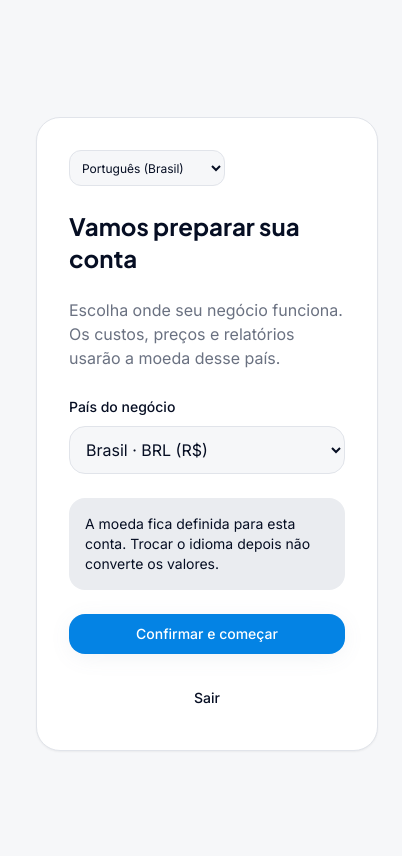
Test: requires a new Google account to confirm its business country before opening the application
Expected: the heading "Vamos preparar sua conta" is shown, x1=69 y1=211 x2=300 y2=273
Select "Portugal · EUR (€)" in the dropdown labelled "País do negócio": (207, 450) x1=69 y1=426 x2=345 y2=474
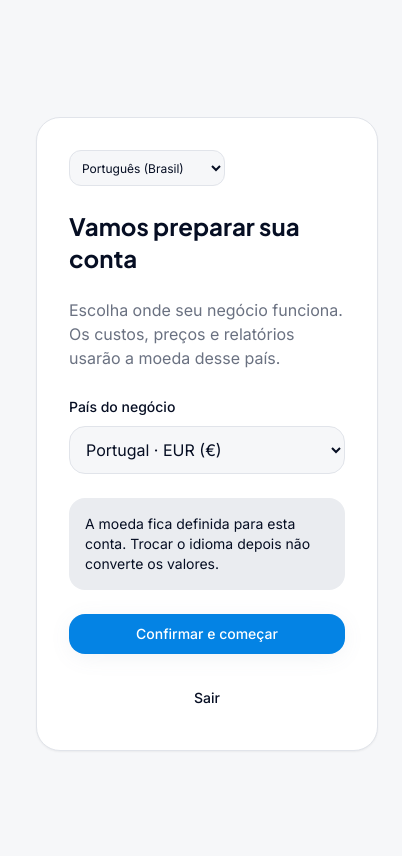
Click the button "Confirmar e começar": (207, 634) x1=69 y1=614 x2=345 y2=654
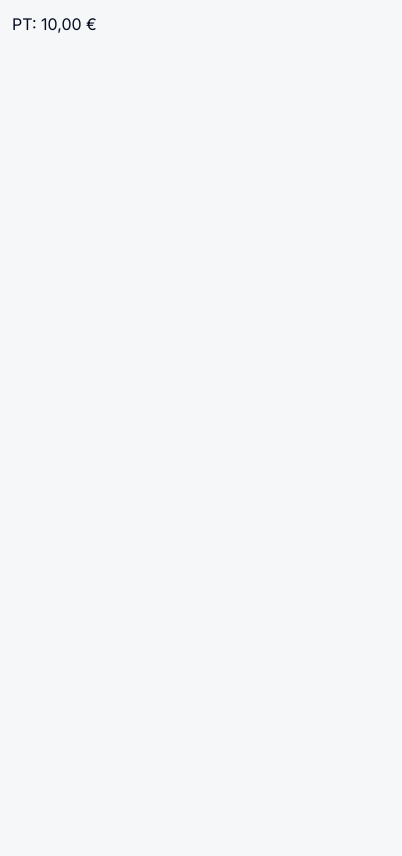
Now the text "PT: 10,00 €" is shown, box x1=12 y1=14 x2=97 y2=34
